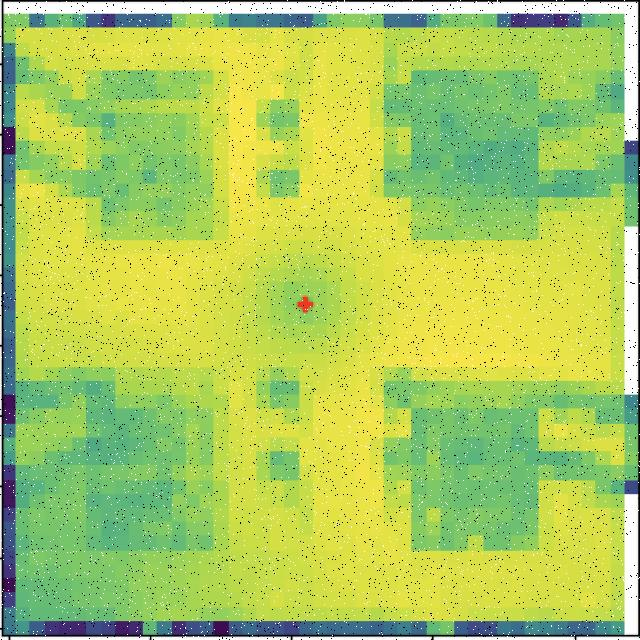Concrete: (86, 68, 226, 240)
Glass: (417, 389, 537, 551)
Metal: (84, 364, 210, 554)
Wood: (410, 71, 538, 242)
